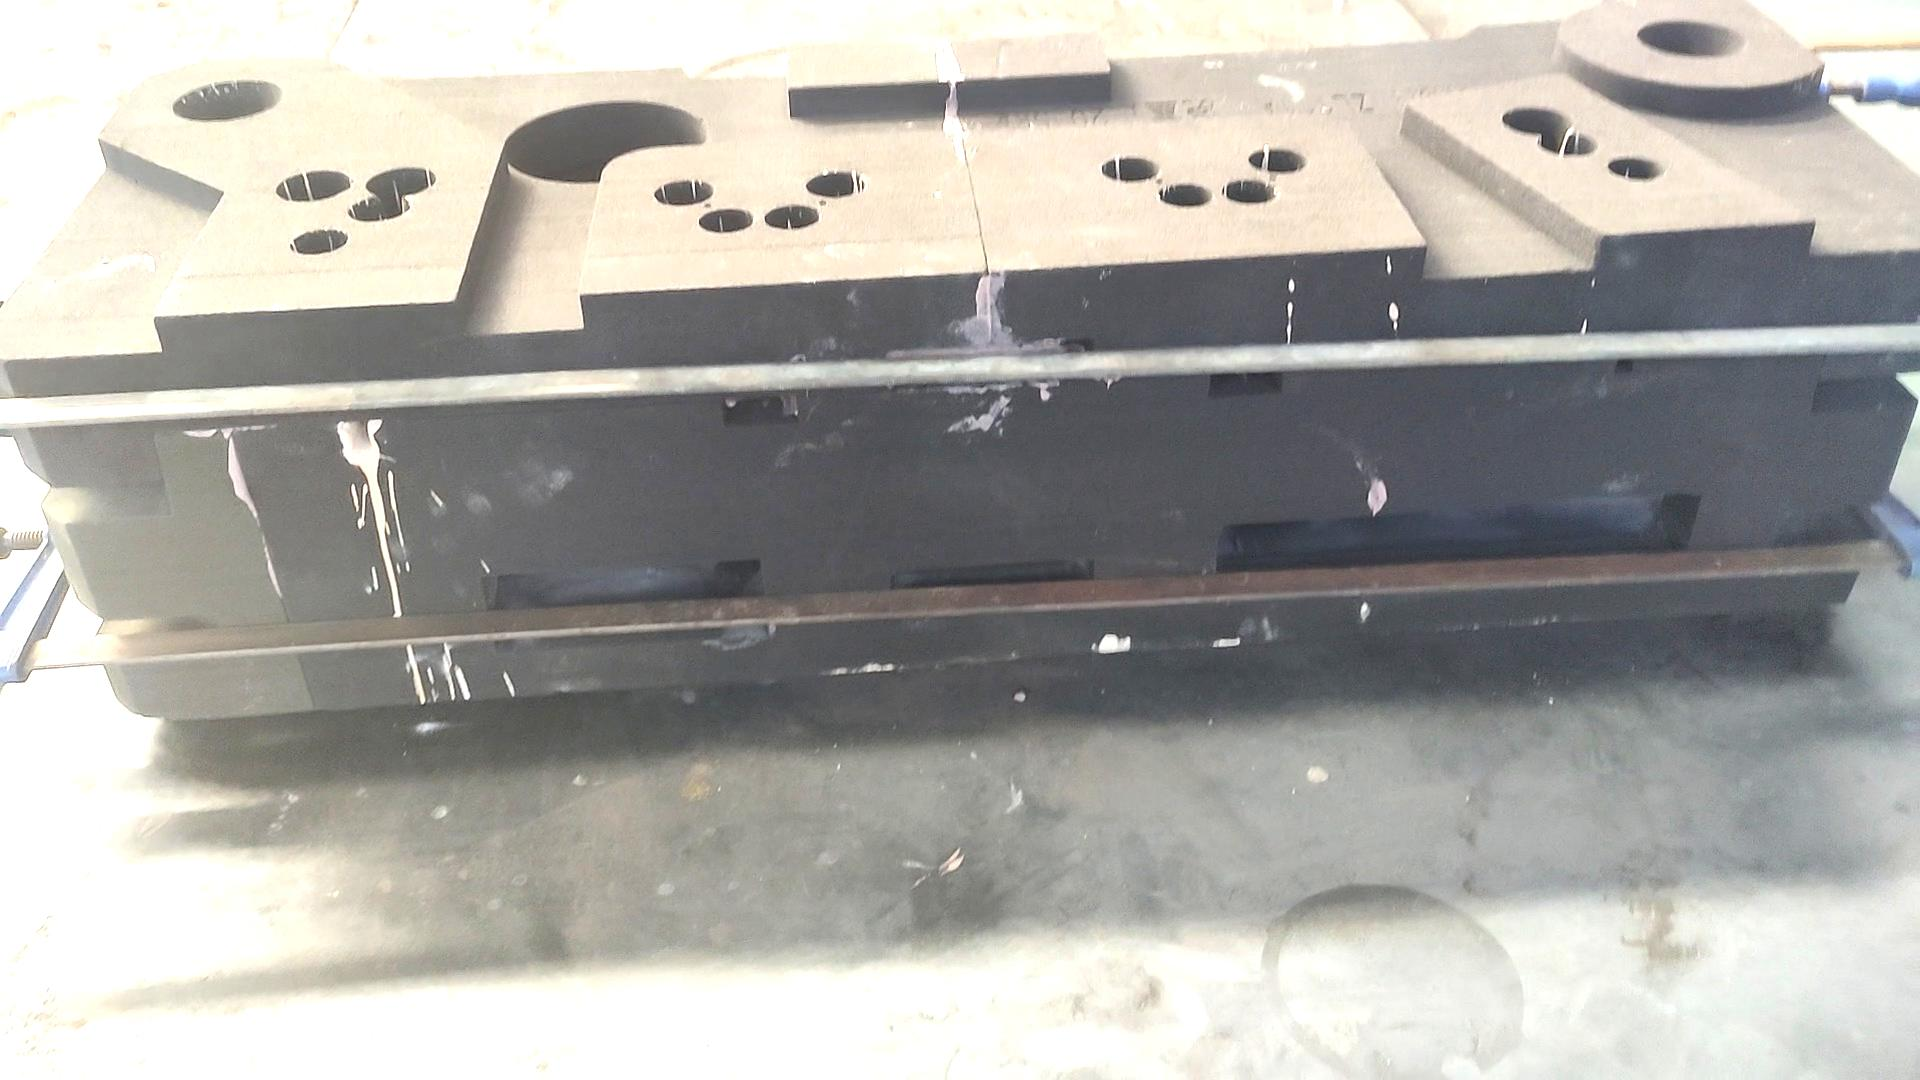pouring hole: (171, 79, 281, 121), (1636, 18, 1745, 58)
